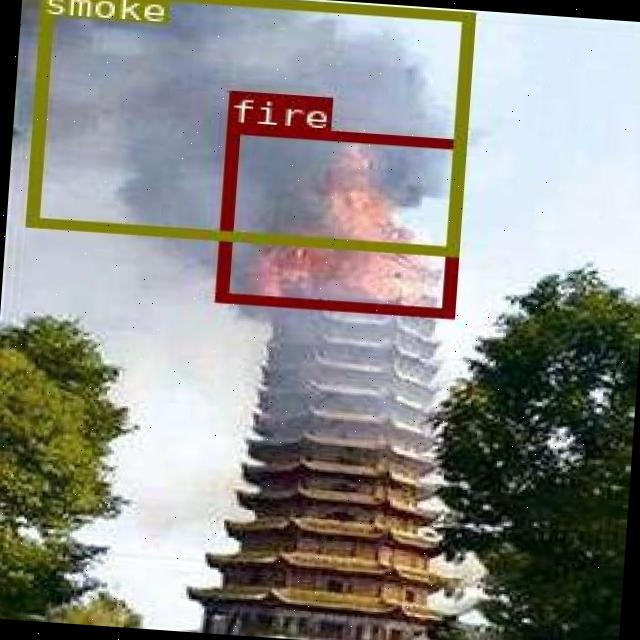fire: (213, 123, 462, 315)
smoke: (23, 0, 471, 254)
